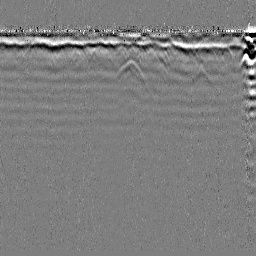cavity: (114, 56, 145, 80)
